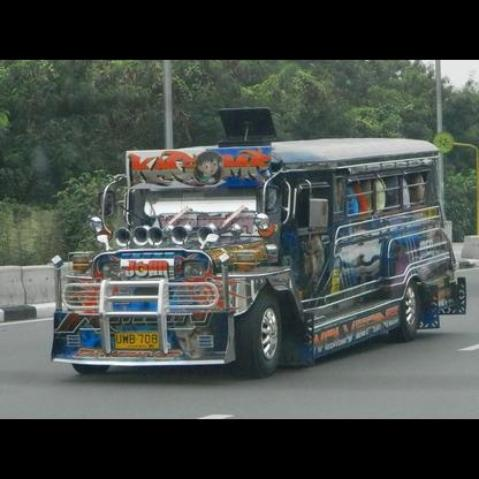jeepney: (34, 110, 479, 381)
